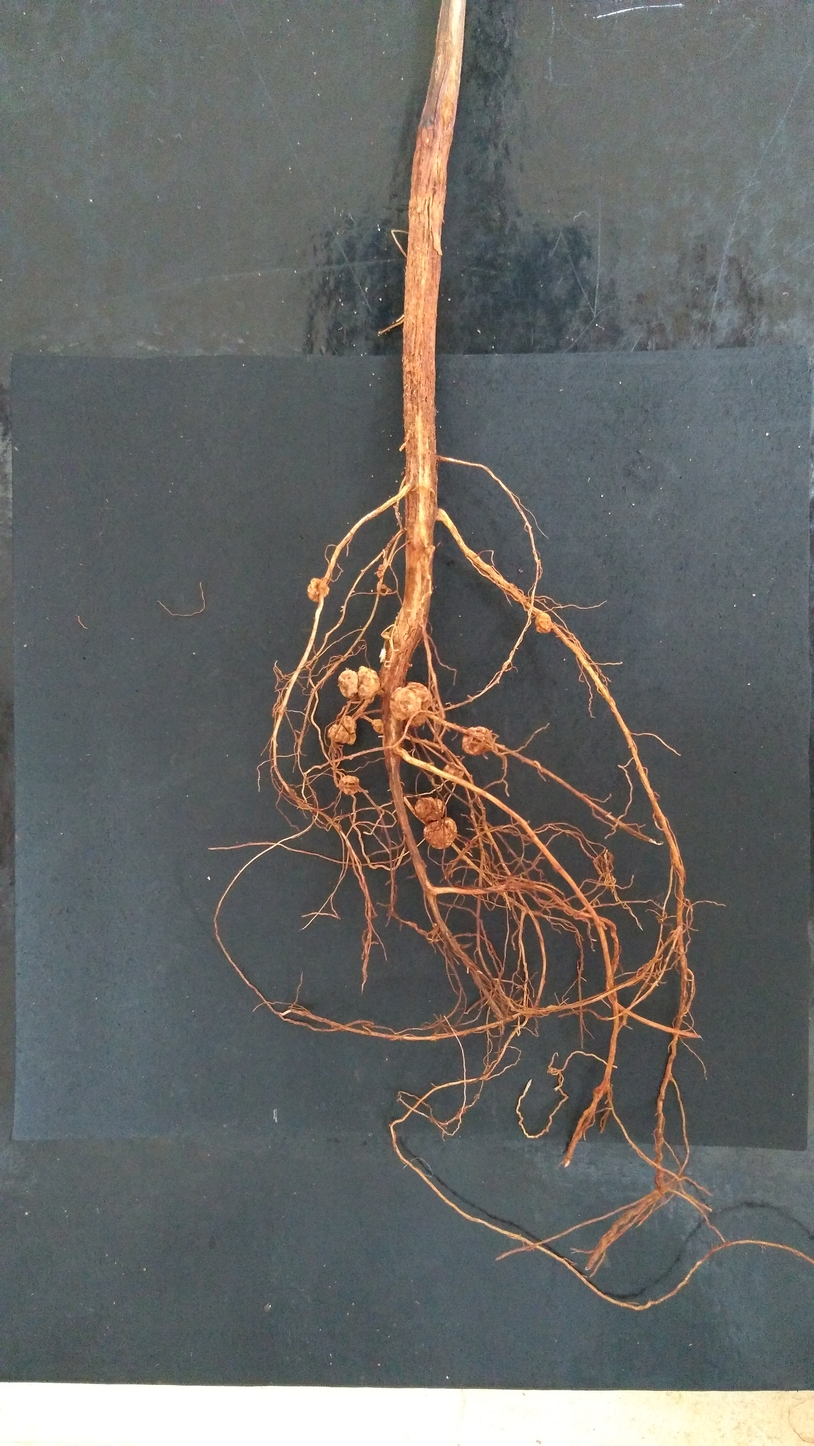nodule: (388, 681, 434, 728), (338, 666, 380, 702), (423, 817, 457, 850), (462, 726, 494, 756), (327, 716, 356, 745), (414, 797, 446, 822), (307, 578, 329, 602), (338, 775, 360, 794), (443, 762, 464, 781), (534, 612, 552, 633), (371, 718, 384, 734), (376, 564, 385, 577), (425, 544, 435, 555)
